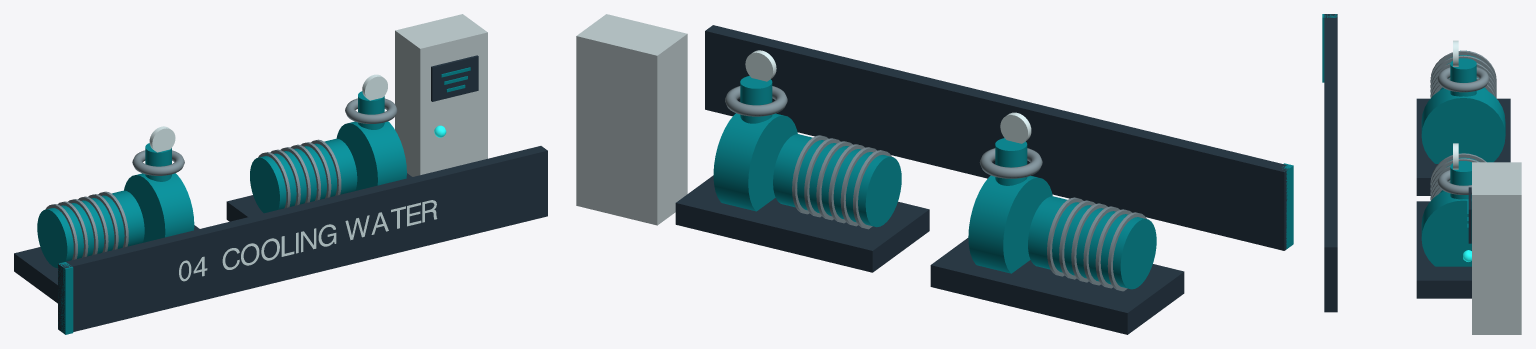
The model's file is steel-utilities.cde280978616.glb.
The picture shows the model from 3 angles, left to right: view 1: azimuth 30°, elevation 25°; view 2: azimuth 150°, elevation 25°; view 3: azimuth 270°, elevation 25°; orthographic projection. The views are drawn at different scales.
Visible parts, largest first — view 1: structure_dark_00034, structure_teal_00035, structure_cream_00038, structure_steel_00036, structure_white_00037; view 2: structure_dark_00034, structure_teal_00035, structure_cream_00038, structure_steel_00036, structure_white_00037; view 3: structure_teal_00035, structure_cream_00038, structure_dark_00034, structure_steel_00036, structure_white_00037.
Part boxes in pixels (x1,y1,x2,y2): structure_dark_00034: [14, 55, 547, 333]; structure_teal_00035: [37, 67, 470, 334]; structure_cream_00038: [395, 14, 487, 176]; structure_steel_00036: [45, 98, 397, 259]; structure_white_00037: [149, 74, 437, 281]; structure_dark_00034: [675, 25, 1288, 334]; structure_teal_00035: [713, 76, 1293, 289]; structure_cream_00038: [576, 14, 687, 225]; structure_steel_00036: [725, 86, 1146, 291]; structure_white_00037: [745, 50, 1031, 143]; structure_teal_00035: [1322, 14, 1505, 266]; structure_cream_00038: [1472, 162, 1521, 334]; structure_dark_00034: [1324, 14, 1510, 312]; structure_steel_00036: [1430, 50, 1496, 200]; structure_white_00037: [1453, 40, 1458, 169].
Size of the model in its own units: 5.15 by 1.41 by 1.8.
